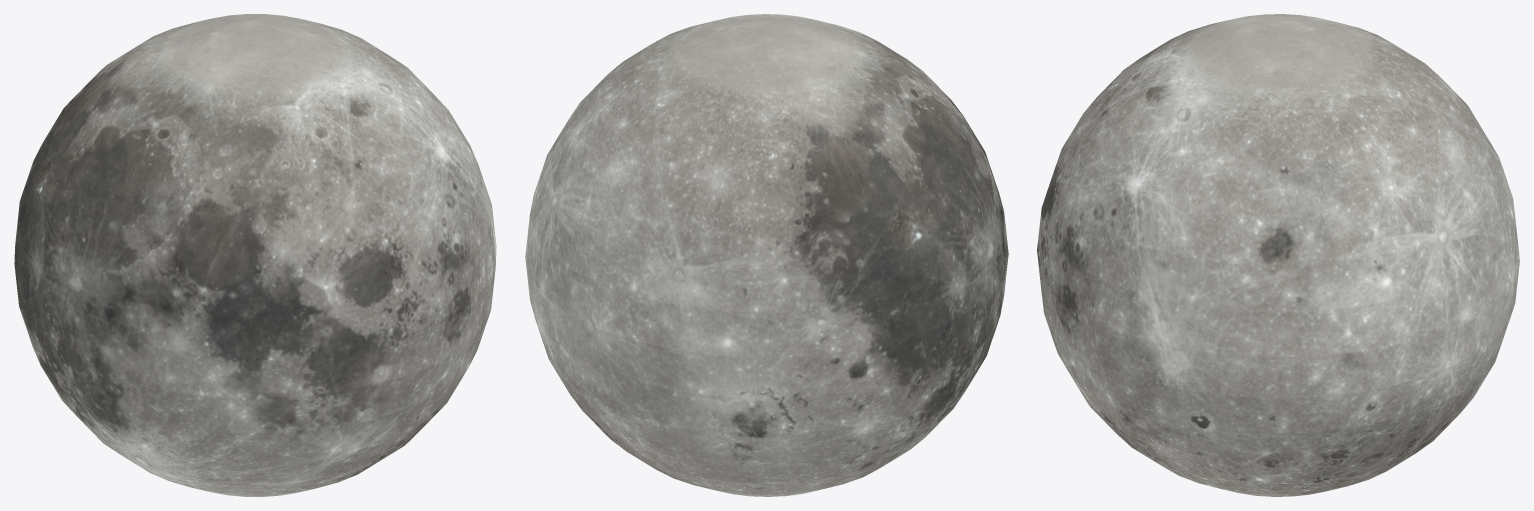
Rendered from moon_idle.glb.
3 views of the same model, side by side, from view 1: azimuth 30°, elevation 25°; view 2: azimuth 150°, elevation 25°; view 3: azimuth 270°, elevation 25° (orthographic).
Visible parts, largest first — view 1: Luna.002_0; view 2: Luna.002_0; view 3: Luna.002_0.
Boxes of the visible parts, x1,y1,x2,y2 form: Luna.002_0: (14, 14, 496, 496); Luna.002_0: (525, 14, 1008, 496); Luna.002_0: (1037, 14, 1519, 496).
Size of the model in its own units: 8.85 by 8.86 by 8.85.
Materials: 1 (1 with a texture image).
